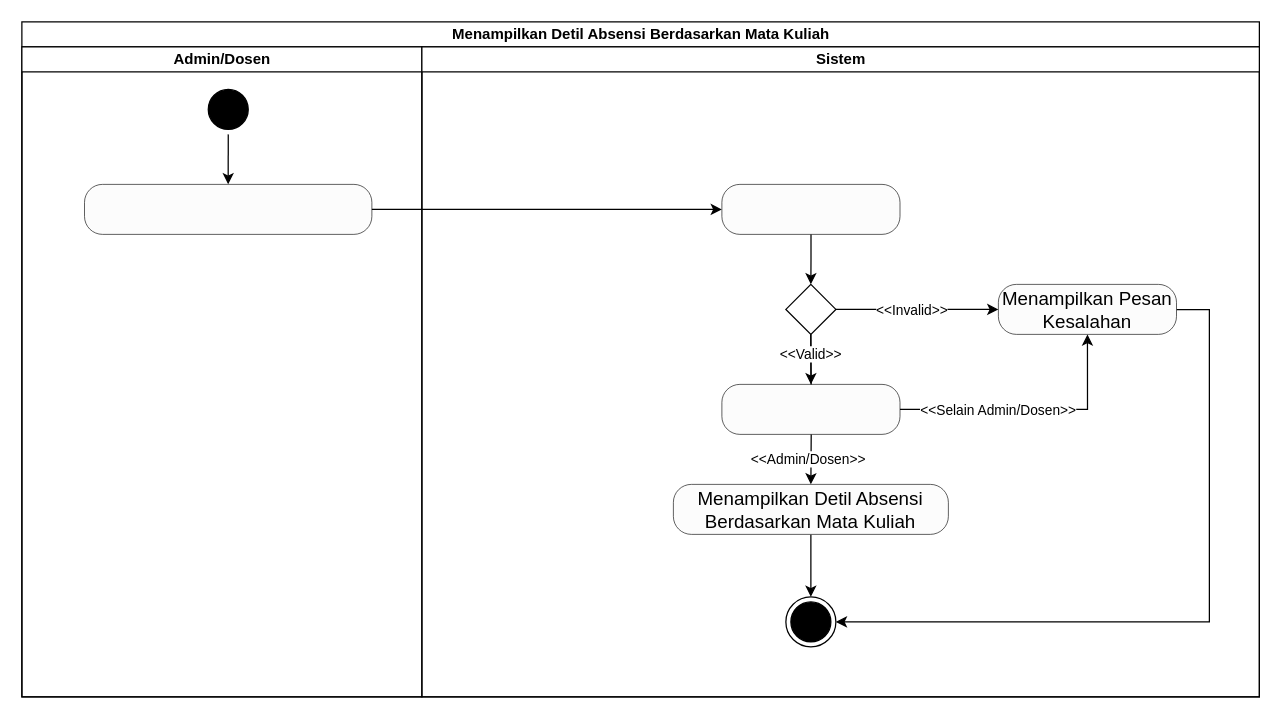
Some shapes in this 1281 by 719 pixel diagram are drawn without their labels. Here are the shapes that lost their labels. From the top down, the centre of each, then its label:
At [228,209]: "Memilih Detil Absensi Berdasarkan Mata Kuliah".
At [810,209]: "Memeriksa Status Login".
At [810,409]: "Memeriksa Aktor".
